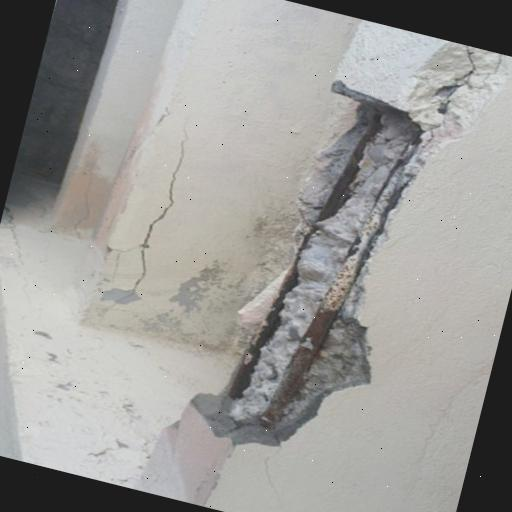spalling: (194, 41, 508, 446), (96, 128, 199, 317)
